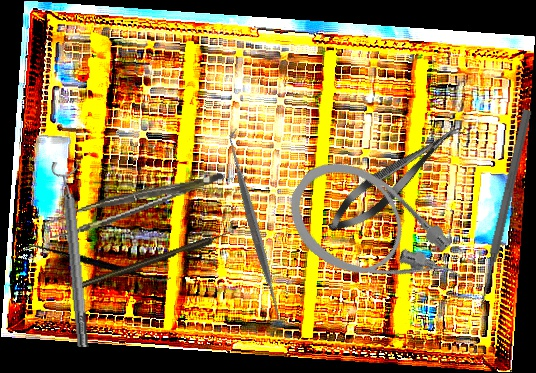Cannula: (271, 142, 481, 331)
Fixation Ring: (50, 159, 97, 349)
Hook Surgical: (75, 228, 237, 291)
Micro Scissor: (320, 113, 471, 243)
Pusher: (474, 108, 534, 311)
Spatula Surgical: (154, 128, 355, 326), (22, 207, 172, 322)
Tissue Forceps: (44, 172, 229, 239)
